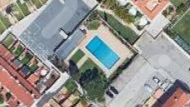pool: (88, 37, 116, 67)
